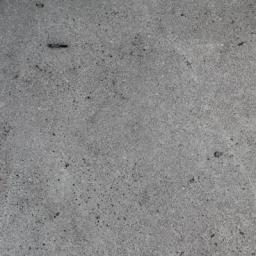FOD: (47, 40, 70, 54)
